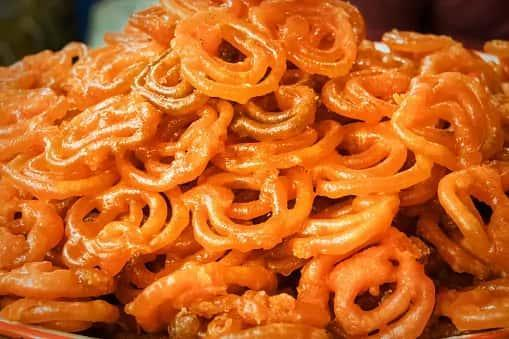jalebi: (3, 4, 509, 336)
